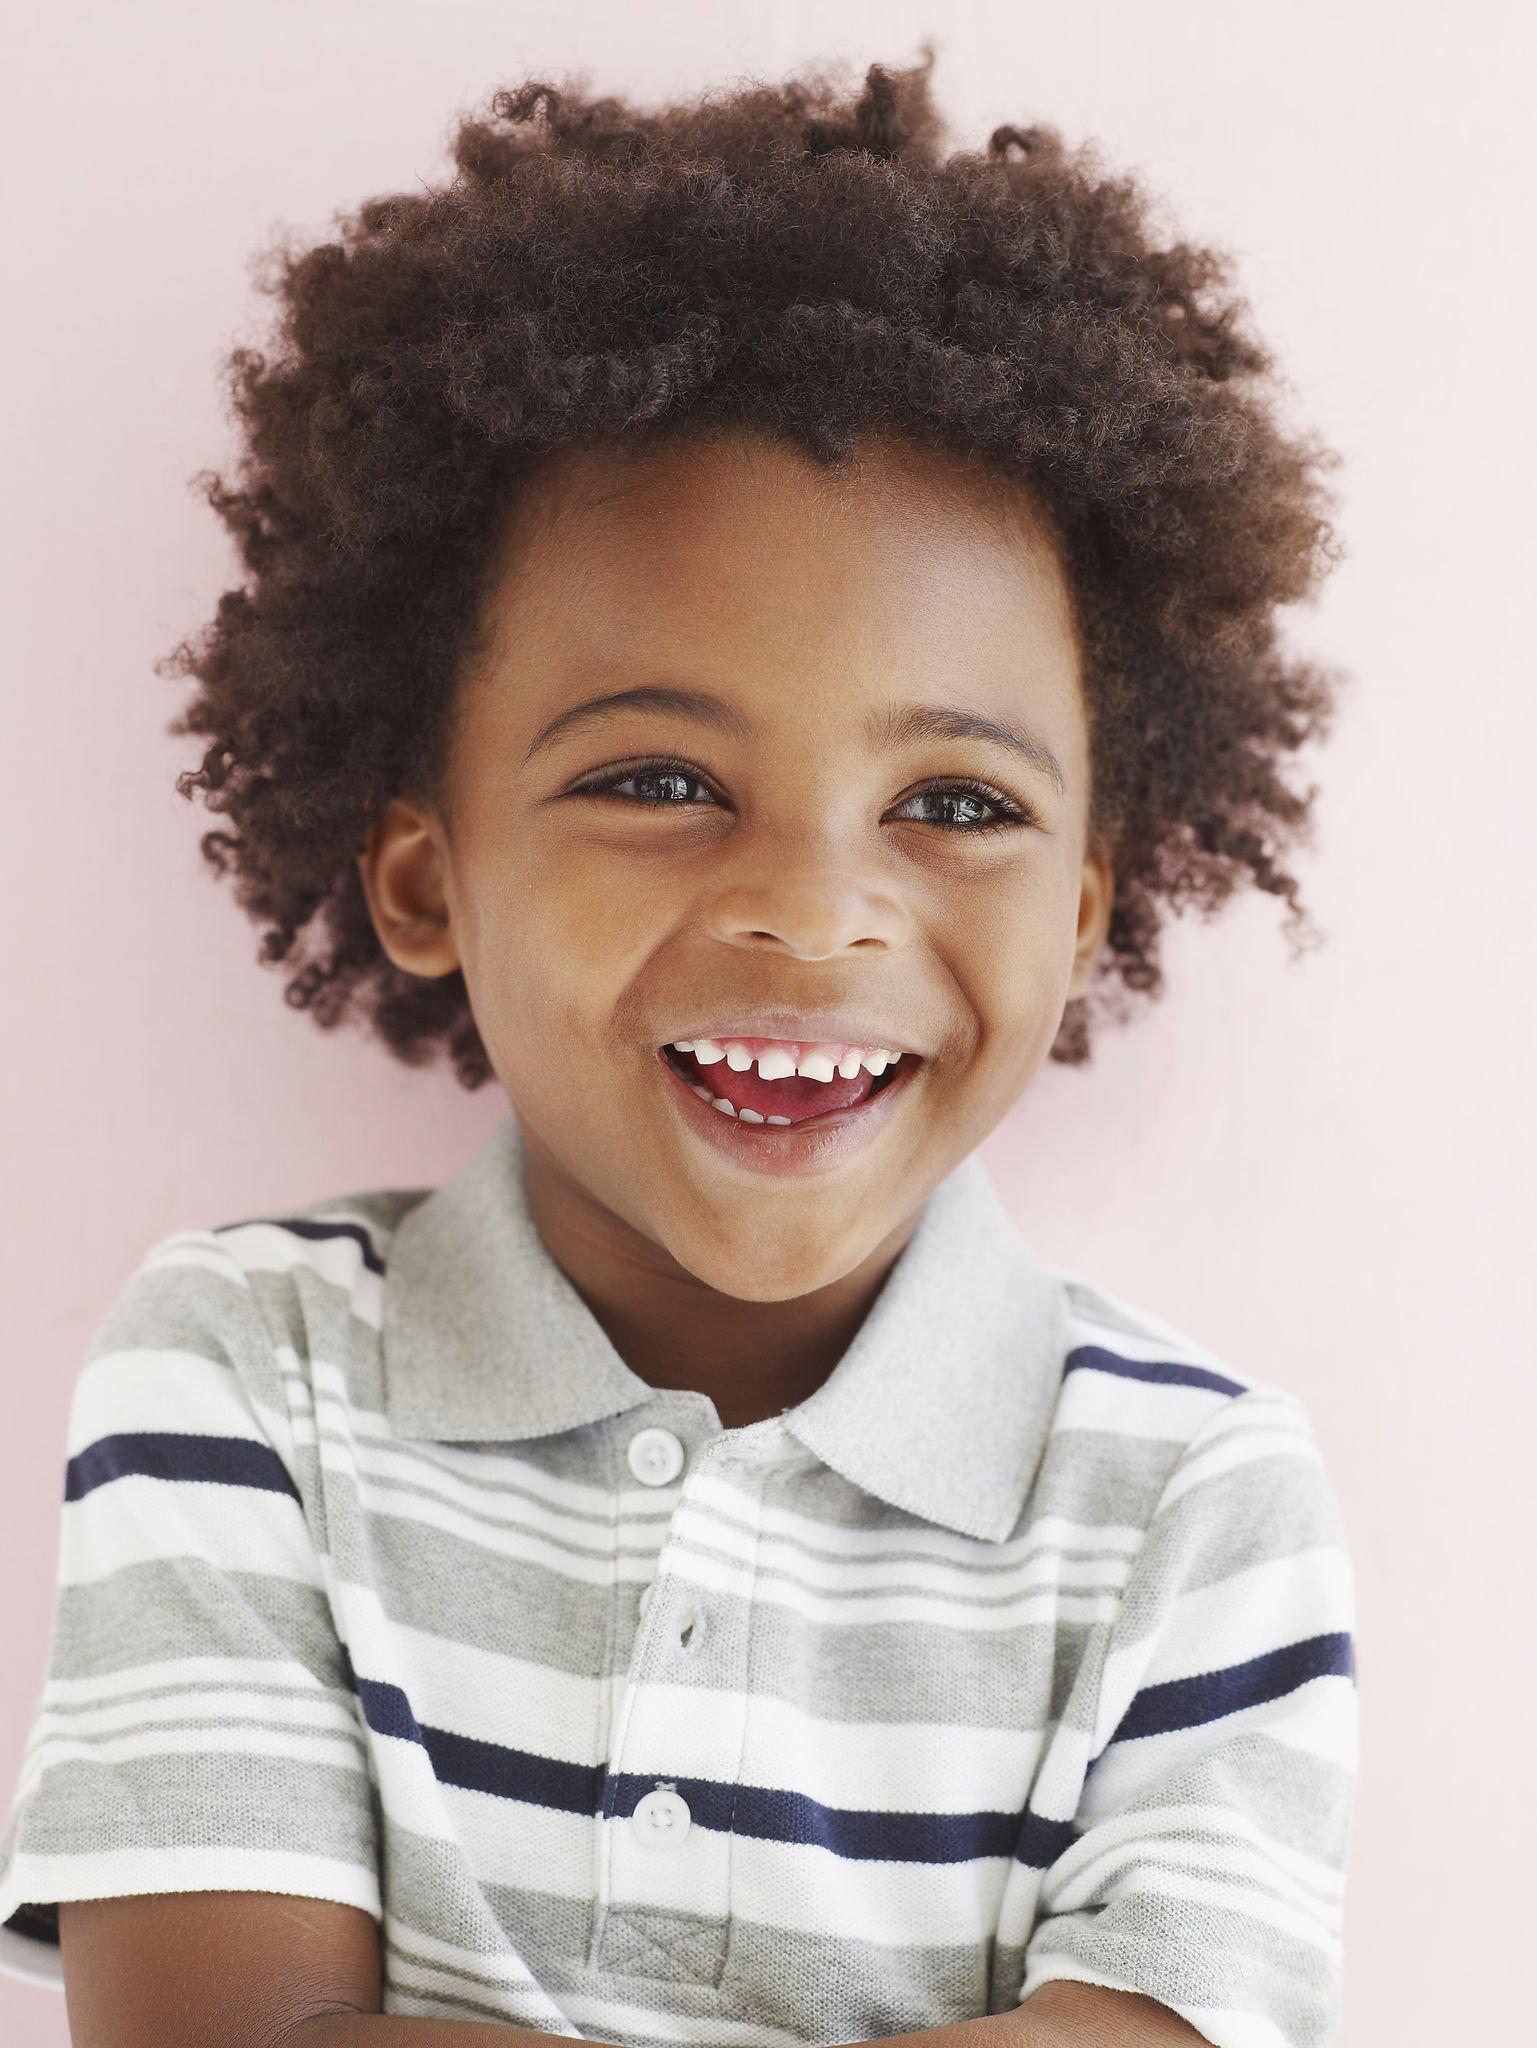Healthy: (331, 207, 1208, 1365)
